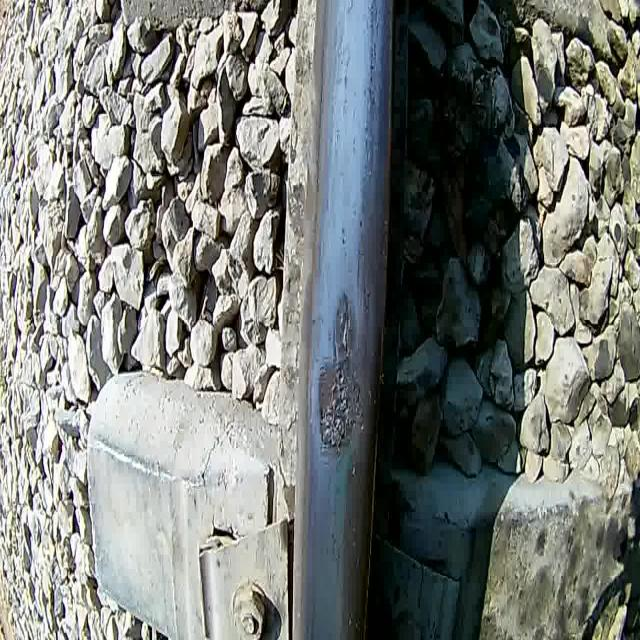Cracks: (353, 249, 374, 323), (331, 295, 352, 369)
Spallings: (317, 360, 364, 455)
Squats: (314, 285, 368, 460)
